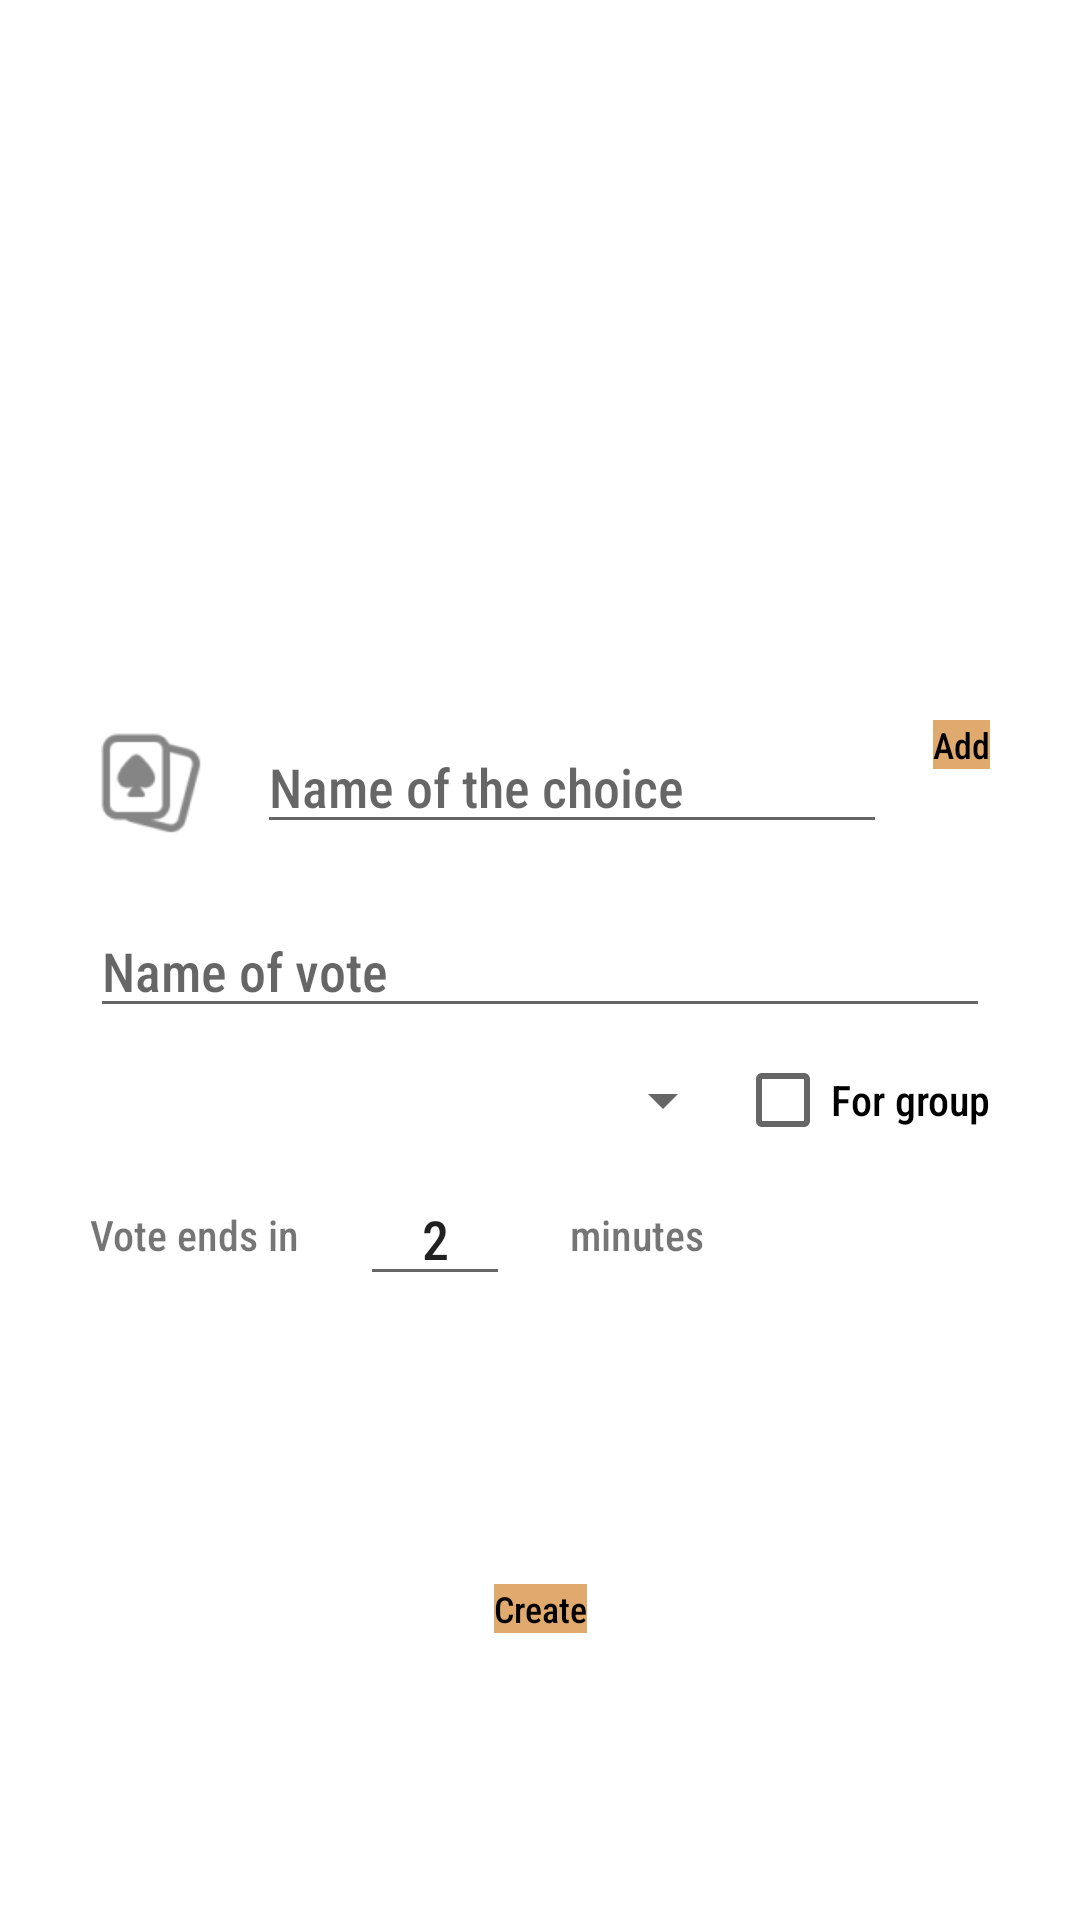

Screen size 1080px x 1920px. Icon name, then its center in pixels as (x,y):
cards: (150,782)
